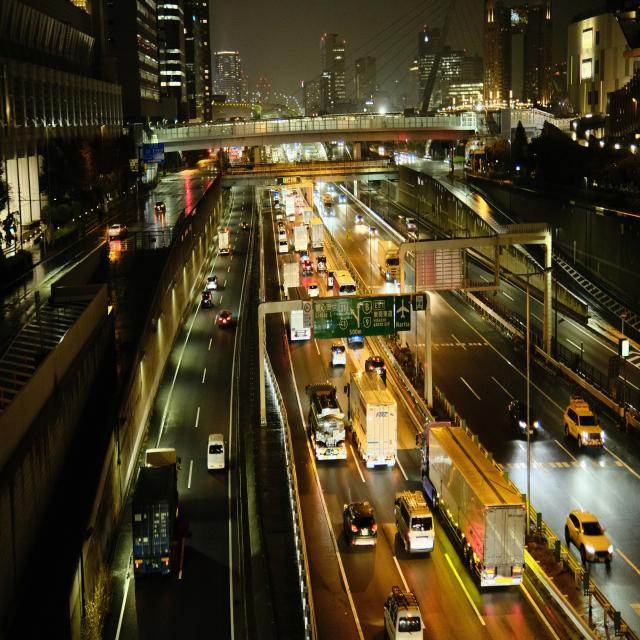Trucks: (423, 426, 525, 586), (132, 449, 179, 576), (346, 372, 397, 467), (306, 384, 346, 459), (378, 241, 399, 280), (282, 254, 299, 298), (289, 309, 311, 340), (334, 271, 356, 295), (309, 218, 324, 248), (294, 225, 309, 251), (218, 228, 231, 255), (322, 192, 333, 215), (285, 196, 295, 216), (302, 207, 312, 224)
